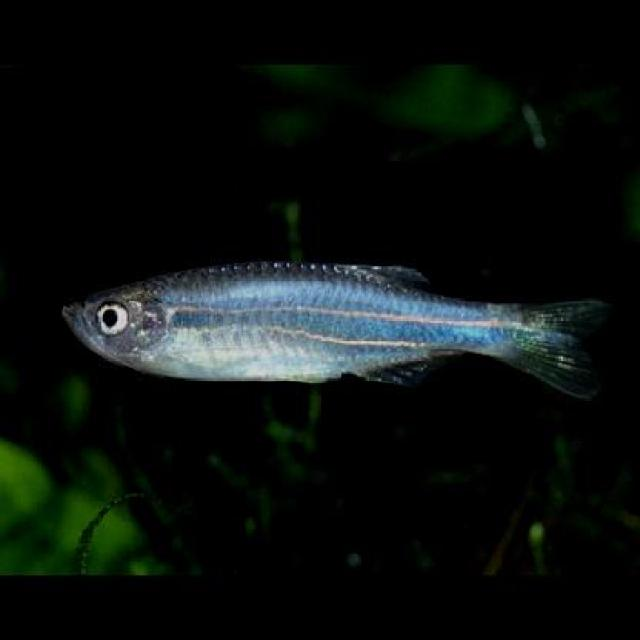ZebraFish: (67, 256, 610, 384)
